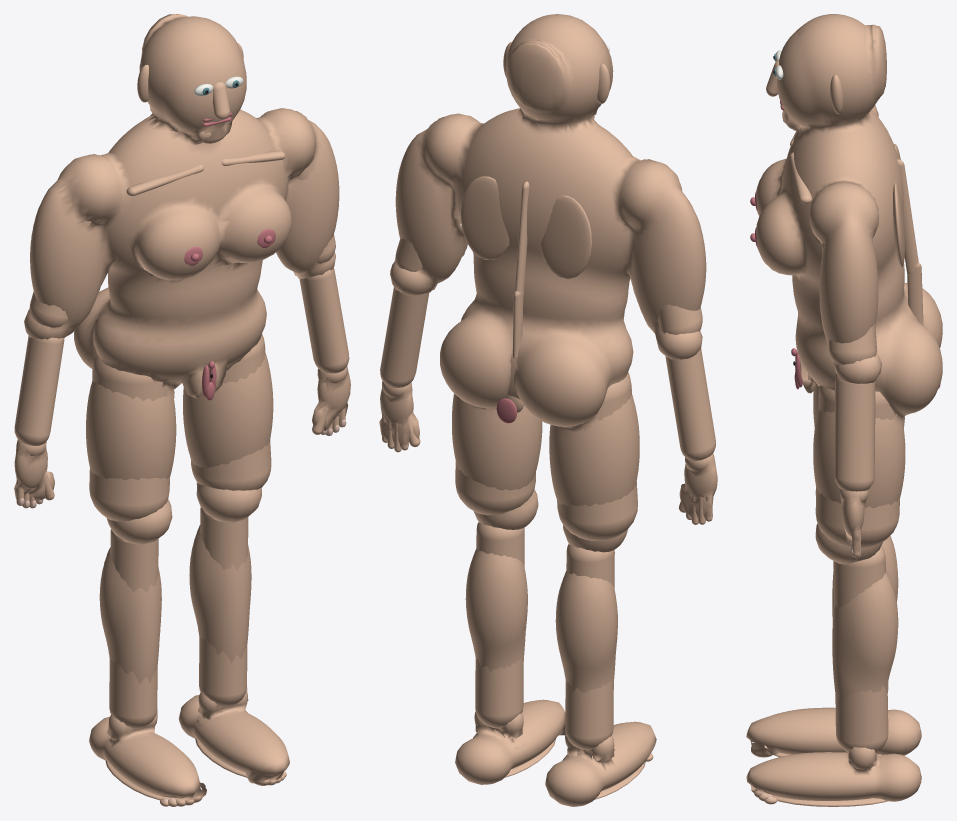
File: body-hochbetagt-weiblich-v2.glb
3 views of the same model, side by side, from view 1: azimuth 30°, elevation 25°; view 2: azimuth 150°, elevation 25°; view 3: azimuth 270°, elevation 25° (orthographic).
Parts seen in each view (by area): view 1: zone__visual-surface-body-hochbetagt-weiblich, zone__surface-thigh-left, zone__surface-lower-leg-left, zone__surface-lower-leg-right, zone__surface-forearm-left, zone__surface-forearm-right, zone__surface-thigh-right, zone__surface-upper-arm-left, zone__surface-clavicle-left; view 2: zone__visual-surface-body-hochbetagt-weiblich, zone__surface-lower-leg-right, zone__surface-lower-leg-left, zone__surface-forearm-left, zone__surface-thigh-left, zone__surface-forearm-right, zone__surface-scapula-left, zone__surface-scapula-right, zone__surface-thigh-right, zone__surface-upper-arm-left, zone__surface-thoracic-spine, zone__surface-upper-arm-right; view 3: zone__visual-surface-body-hochbetagt-weiblich, zone__surface-lower-leg-right, zone__surface-forearm-right, zone__surface-thigh-right, zone__surface-upper-arm-right, zone__surface-thoracic-spine, zone__surface-scapula-right, zone__surface-lumbar-spine, zone__surface-sole-right, zone__surface-ear-right, zone__surface-clavicle-right.
Boxes of the visible parts, box(x1,y1,x2,y2) form: zone__visual-surface-body-hochbetagt-weiblich: box(14, 14, 350, 800); zone__surface-thigh-left: box(89, 355, 171, 521); zone__surface-lower-leg-left: box(109, 529, 158, 729); zone__surface-lower-leg-right: box(199, 507, 248, 707); zone__surface-forearm-left: box(14, 336, 64, 445); zone__surface-forearm-right: box(299, 268, 349, 373); zone__surface-thigh-right: box(191, 334, 271, 490); zone__surface-upper-arm-left: box(29, 220, 93, 327); zone__surface-clavicle-left: box(126, 165, 203, 196); zone__visual-surface-body-hochbetagt-weiblich: box(379, 14, 717, 806); zone__surface-lower-leg-right: box(475, 522, 524, 728); zone__surface-lower-leg-left: box(565, 544, 614, 750); zone__surface-forearm-left: box(665, 348, 715, 460); zone__surface-thigh-left: box(557, 372, 637, 540); zone__surface-forearm-right: box(380, 287, 429, 387); zone__surface-scapula-left: box(540, 195, 591, 279); zone__surface-scapula-right: box(460, 176, 509, 259); zone__surface-thigh-right: box(455, 461, 535, 515); zone__surface-upper-arm-left: box(658, 304, 702, 334); zone__surface-thoracic-spine: box(515, 181, 529, 299); zone__surface-upper-arm-right: box(395, 238, 422, 271); zone__visual-surface-body-hochbetagt-weiblich: box(746, 14, 942, 801); zone__surface-lower-leg-right: box(833, 546, 888, 752); zone__surface-forearm-right: box(834, 373, 875, 491); zone__surface-thigh-right: box(815, 385, 899, 548); zone__surface-upper-arm-right: box(821, 243, 876, 364); zone__surface-thoracic-spine: box(897, 159, 918, 273); zone__surface-scapula-right: box(893, 182, 904, 267); zone__surface-lumbar-spine: box(907, 262, 923, 325); zone__surface-sole-right: box(773, 795, 887, 806); zone__surface-ear-right: box(830, 74, 843, 114); zone__surface-clavicle-right: box(790, 152, 812, 203).
Size of the model in its own units: 0.7437 by 1.59 by 0.374.
